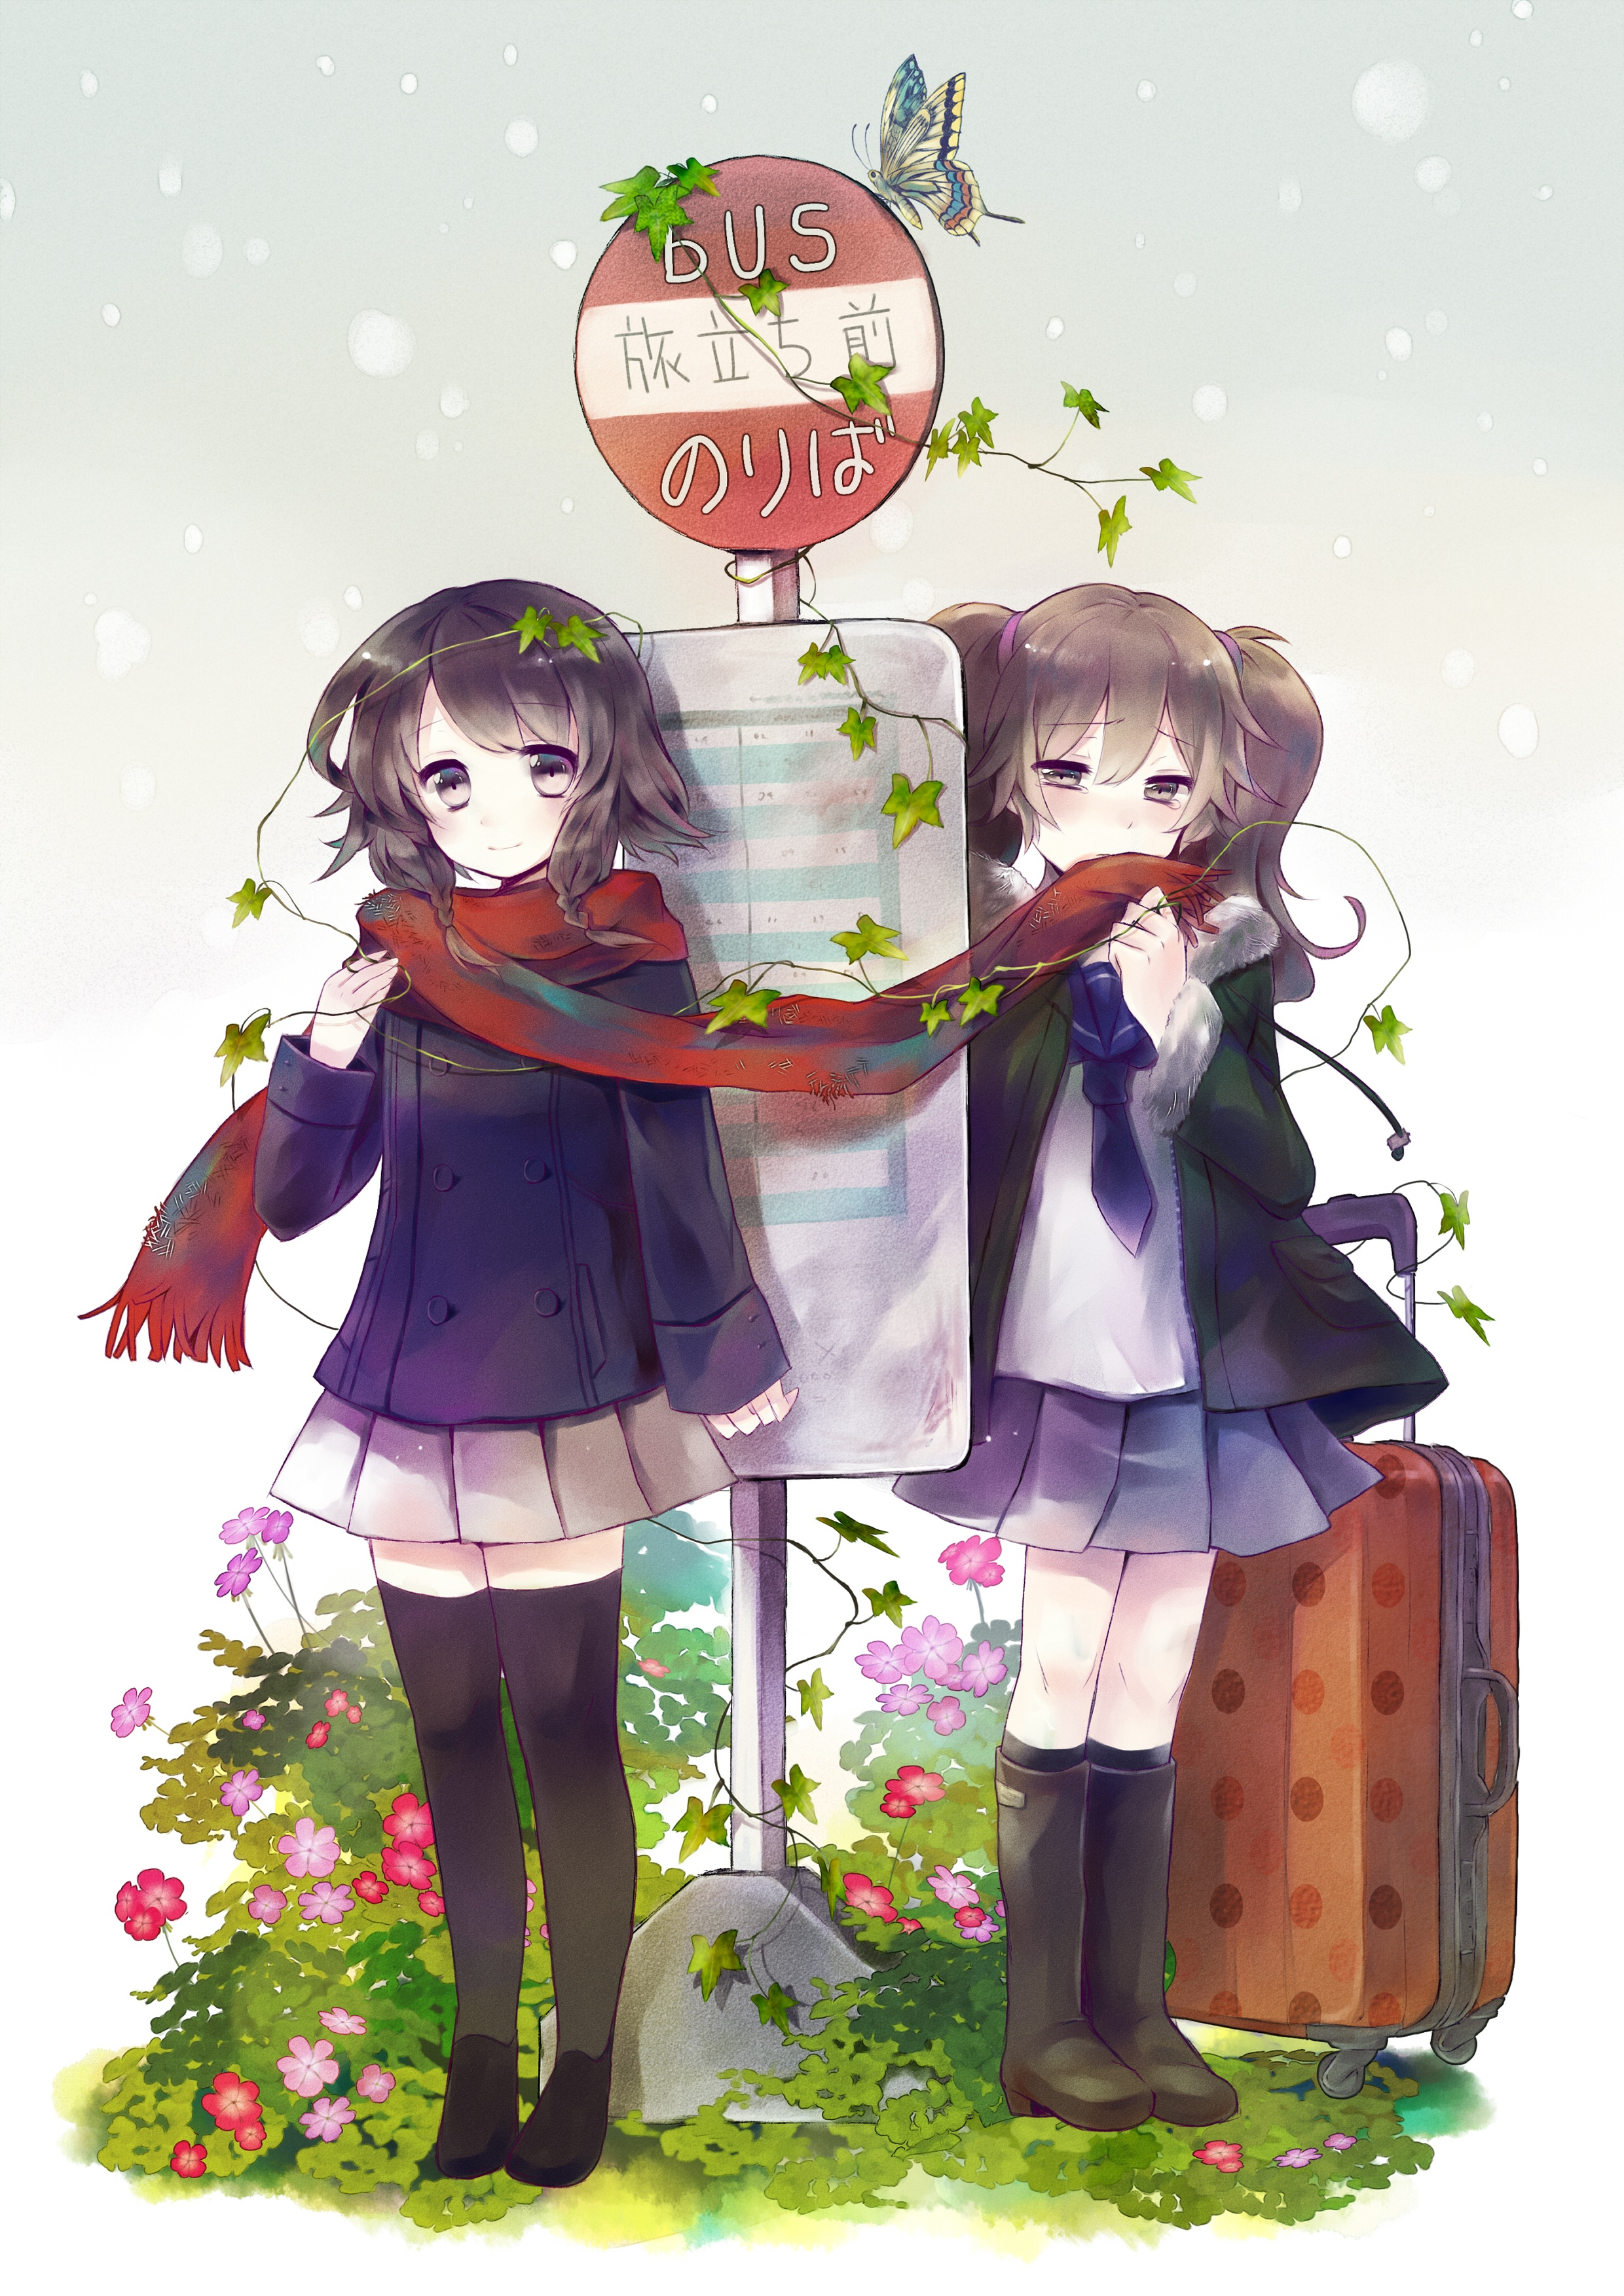纸片人正脸: (305, 585, 683, 920), (948, 581, 1303, 895)
